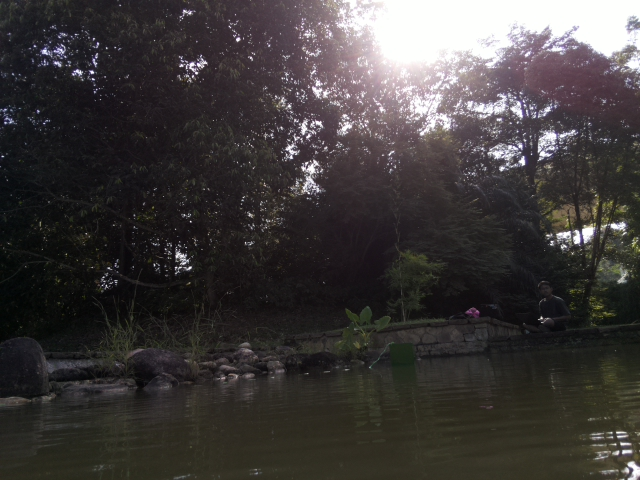obstacle: (386, 341, 416, 366)
